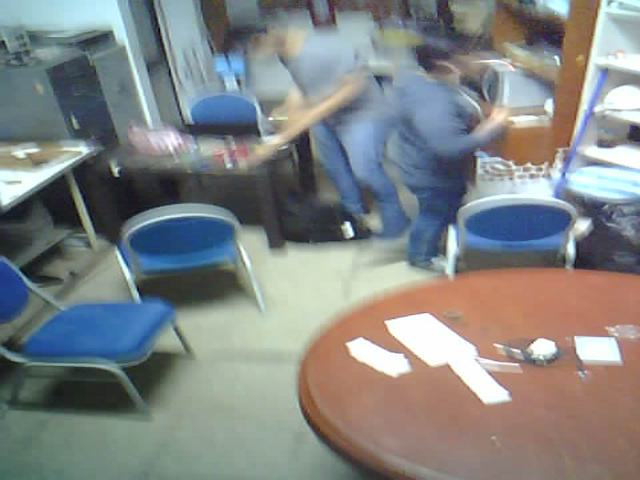person: (213, 7, 412, 250), (383, 38, 521, 284)
